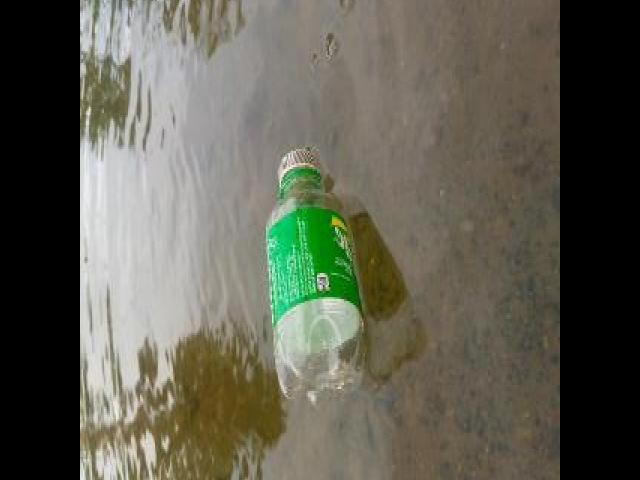Bottle: (258, 142, 371, 408)
